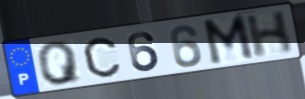6: (168, 23, 203, 69), (126, 31, 162, 73)
C: (81, 35, 123, 79)
H: (244, 9, 295, 61)
M: (200, 12, 257, 68)
Q: (35, 39, 84, 87)
